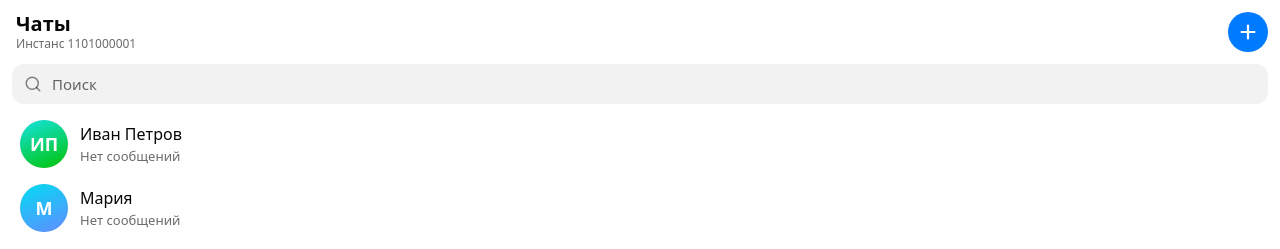
Test: Sidebar: поиск по чатам › сообщает, что ничего не найдено
Type "пётр иванович" into the search field named "Поиск по чатам".
click(640, 84); type("пётр иванович")  # box [12,64,1268,104]
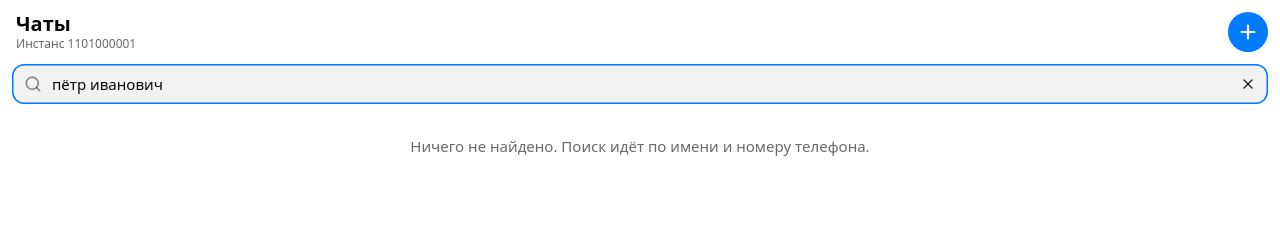
Check: the text "Ничего не найдено. Поиск идёт по имени и номеру телефона." is shown, box [410,136,870,156]
